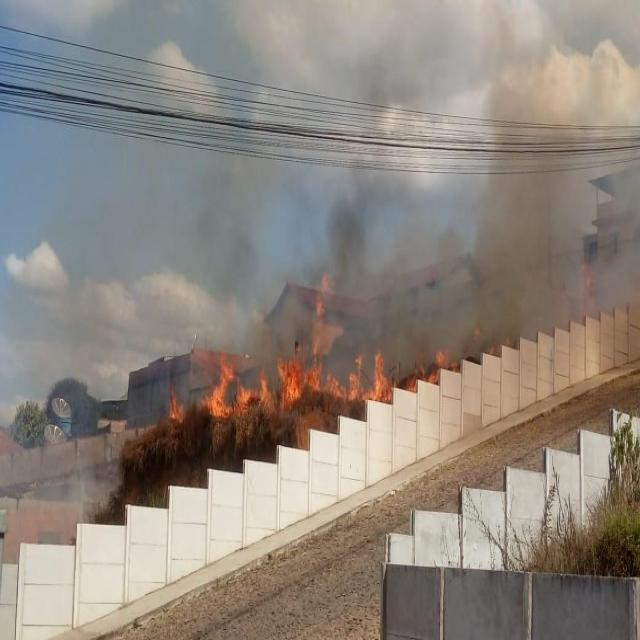Fire: (215, 263, 392, 416), (407, 350, 460, 386), (165, 390, 181, 419)
